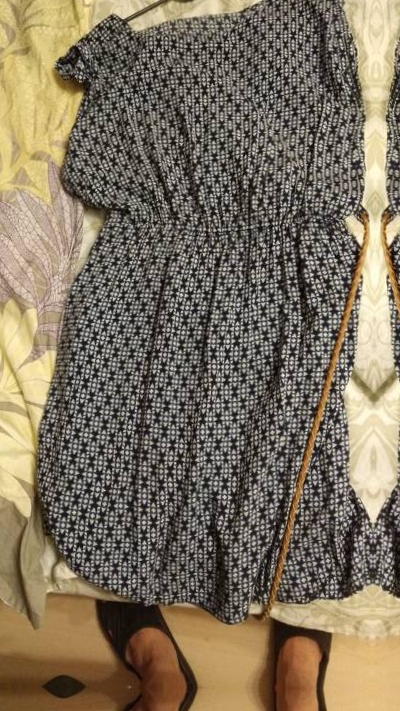Dress: (22, 0, 376, 630), (374, 0, 400, 632)
